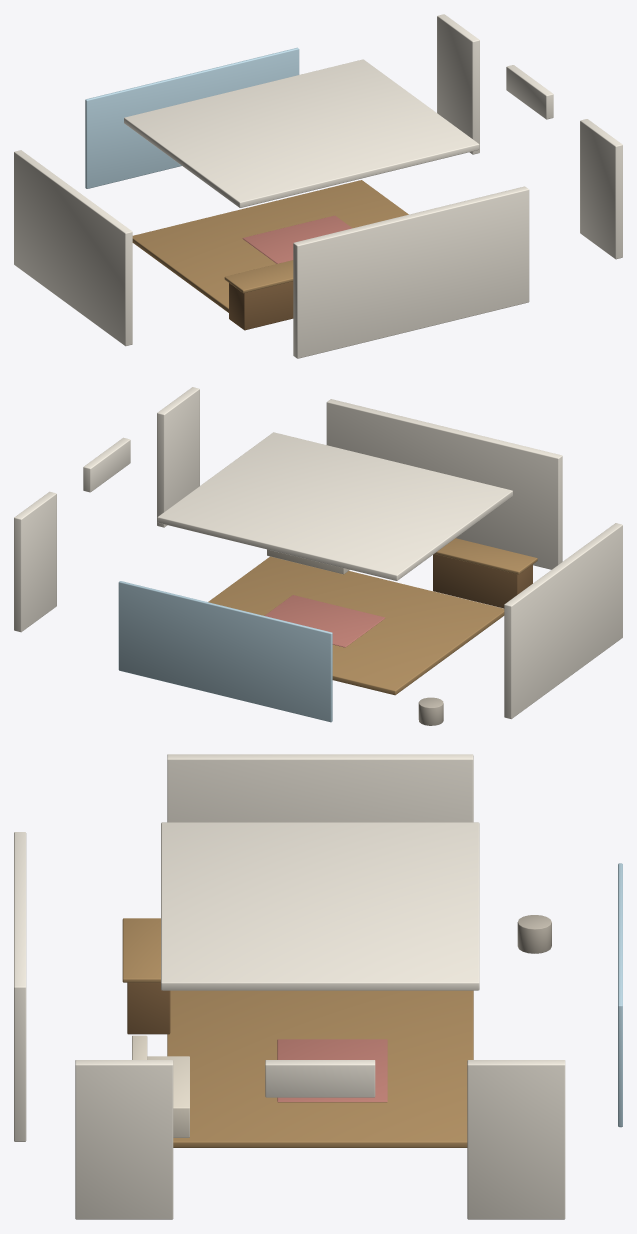
Rendered from lobby_room.glb.
3 views of the same model, one above another, from view 1: azimuth 30°, elevation 25°; view 2: azimuth 150°, elevation 25°; view 3: azimuth 270°, elevation 25° (orthographic). The views are drawn at different scales.
Parts seen in each view (by area): view 1: Ceiling, WallBack, WallLeft, Floor, FrontGlass, WallRightA, WallRightB, Desk, Rug, WallRightTop, DeskTop; view 2: Ceiling, FrontGlass, Floor, WallBack, WallLeft, WallRightB, WallRightA, Desk, Rug, DeskTop, WallRightTop, Planter (+1 smaller); view 3: Ceiling, Floor, WallLeft, WallRightB, WallRightA, WallRightTop, WallBack, Rug, DeskTop, Desk, Sofa, FrontGlass (+1 smaller).
Boxes of the visible parts, x1,y1,x2,y2 form: Ceiling: (124, 59, 479, 207); WallBack: (293, 186, 529, 358); WallLeft: (14, 150, 132, 346); Floor: (132, 180, 408, 312); FrontGlass: (85, 47, 299, 188); WallRightA: (580, 119, 622, 259); WallRightB: (437, 14, 479, 154); Desk: (229, 281, 293, 330); Rug: (242, 215, 351, 263); WallRightTop: (506, 65, 553, 119); DeskTop: (224, 260, 293, 293); Ceiling: (157, 432, 512, 580); FrontGlass: (118, 581, 332, 722); Floor: (208, 556, 504, 695); WallBack: (326, 399, 562, 569); WallLeft: (504, 523, 622, 719); WallRightB: (14, 491, 56, 632); WallRightA: (157, 387, 199, 527); Desk: (433, 554, 532, 608); Rug: (264, 595, 385, 647); DeskTop: (434, 538, 537, 574); WallRightTop: (83, 437, 130, 492); Planter: (418, 697, 443, 725); Ceiling: (161, 822, 479, 990); Floor: (167, 990, 473, 1147); WallLeft: (167, 754, 473, 822); WallRightB: (467, 1060, 565, 1219); WallRightA: (75, 1060, 173, 1219); WallRightTop: (265, 1060, 375, 1097); WallBack: (14, 832, 26, 1141); Rug: (277, 1039, 387, 1102); DeskTop: (122, 918, 160, 982); Desk: (127, 982, 170, 1034); Sofa: (147, 1056, 189, 1137); FrontGlass: (618, 863, 622, 1127).
Bounding box in the file's own units: 12 × 3.04 × 9.94.
